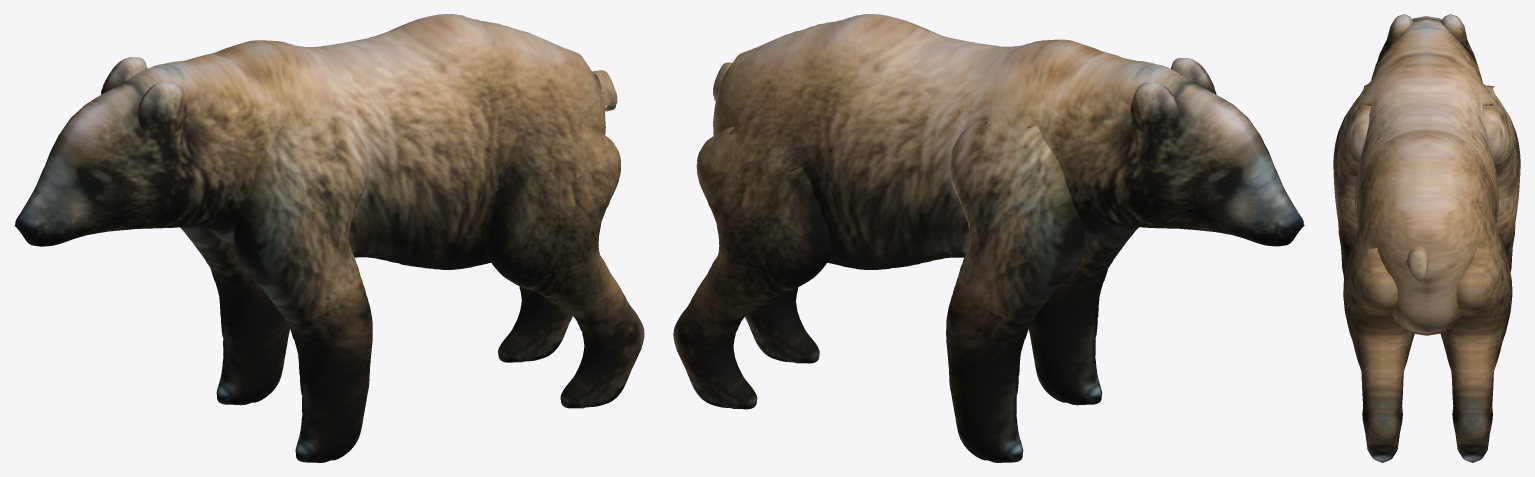
Rendered from bear.fbx.
3 views of the same model, side by side, from view 1: azimuth 30°, elevation 25°; view 2: azimuth 150°, elevation 25°; view 3: azimuth 270°, elevation 25° (orthographic). The views are drawn at different scales.
Visible parts, largest first — view 1: Mesh_0.001; view 2: Mesh_0.001; view 3: Mesh_0.001.
Boxes of the visible parts, x1,y1,x2,y2 form: Mesh_0.001: [14, 14, 644, 462]; Mesh_0.001: [673, 14, 1304, 462]; Mesh_0.001: [1333, 14, 1520, 462].
Size of the model in its own units: 467 by 309 by 176.
